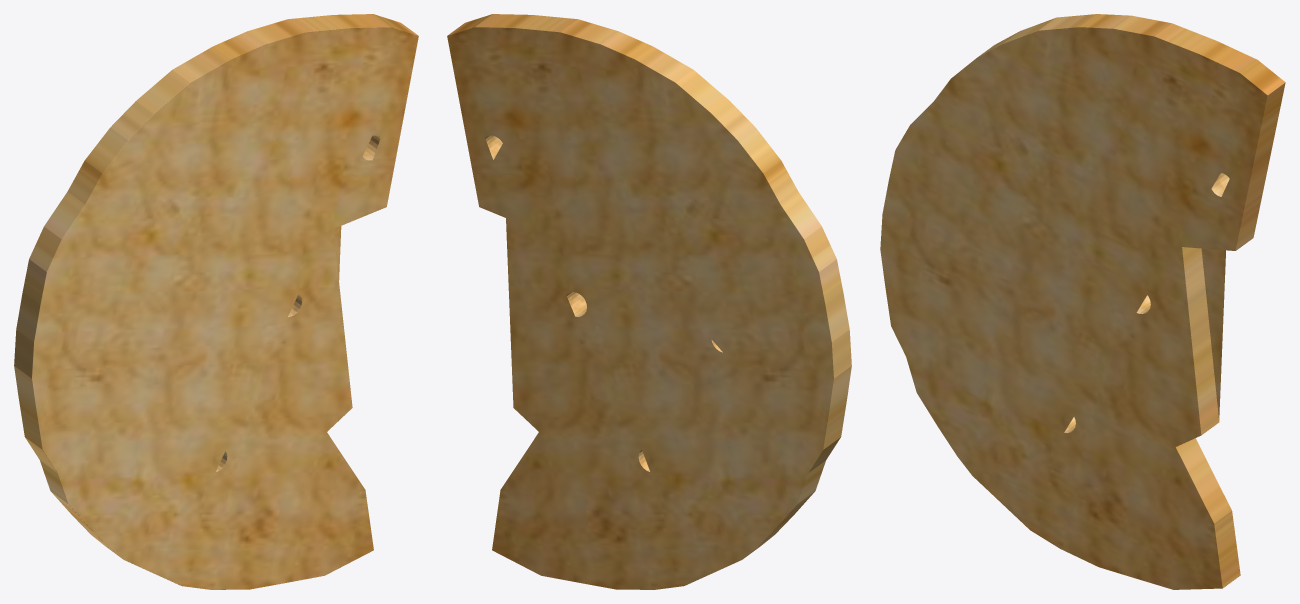
The model's file is biscuit.fbx.
3 views of the same model, side by side, from view 1: azimuth 30°, elevation 25°; view 2: azimuth 150°, elevation 25°; view 3: azimuth 330°, elevation 25° (orthographic).
Parts seen in each view (by area): view 1: polySurface2; view 2: polySurface2; view 3: polySurface2.
Boxes of the visible parts, x1=… form: polySurface2: x1=14, y1=14, x2=418, y2=589; polySurface2: x1=447, y1=14, x2=851, y2=589; polySurface2: x1=880, y1=14, x2=1285, y2=589.
Size of the model in its own units: 2.5 by 3.38 by 0.2.
1 material, 1 textured.
